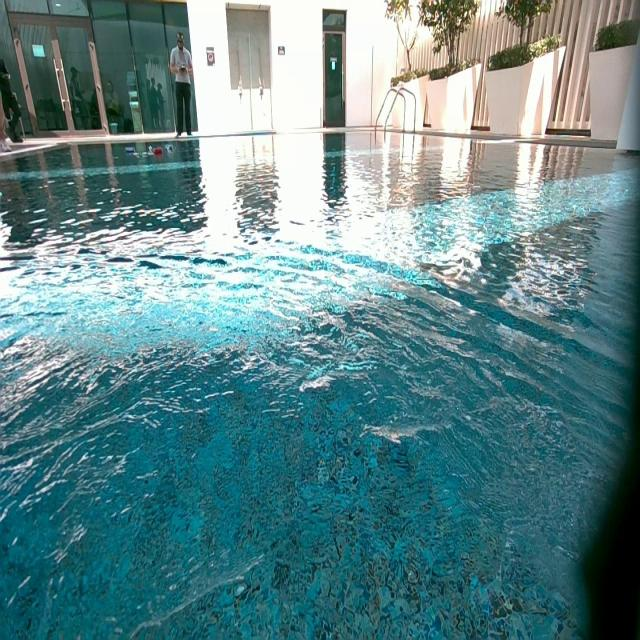Cans: (153, 146, 162, 157), (126, 146, 136, 155), (166, 144, 174, 154), (148, 145, 153, 156)
